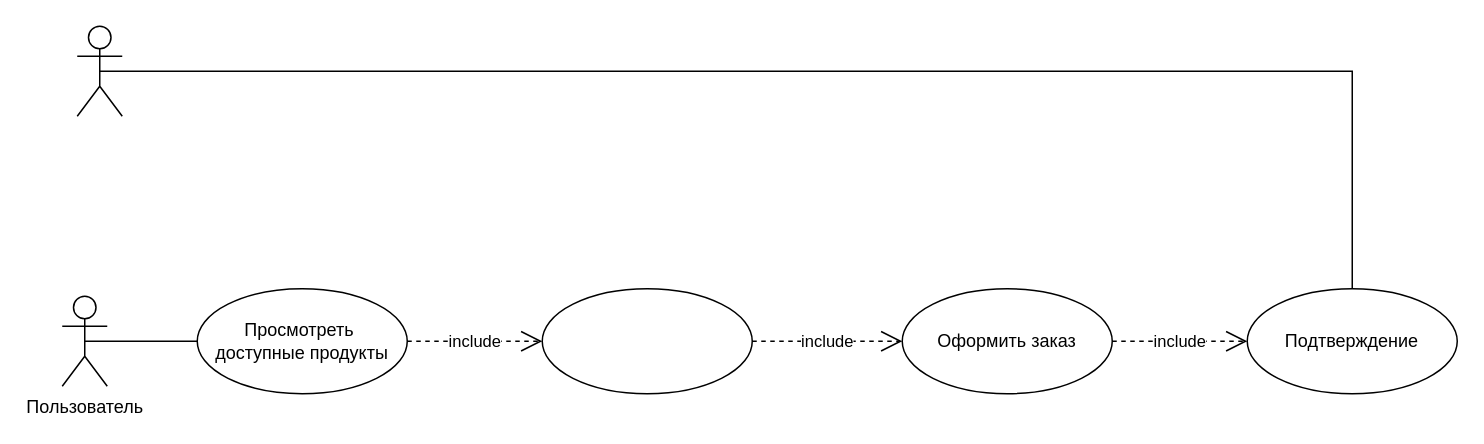
The diagram is 1484 pixels wide and 444 high, and some of its shapes have lost their labels. The shapes that lost their labels are listed below. From the top down, each one's centre as x and y in pixels, then its label:
pixel 99 70: Менеджер
pixel 646 340: Выбрать продукты
